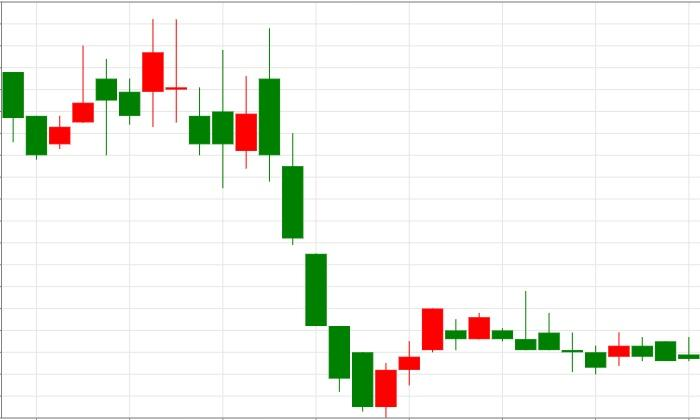three_white_soldiers_rise: (259, 28, 444, 417)
